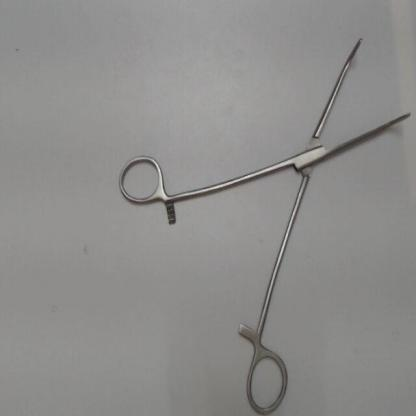Lahey Forceps: (114, 28, 416, 415)
